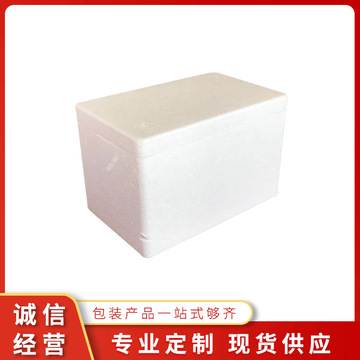Boxes: (77, 73, 285, 255)
